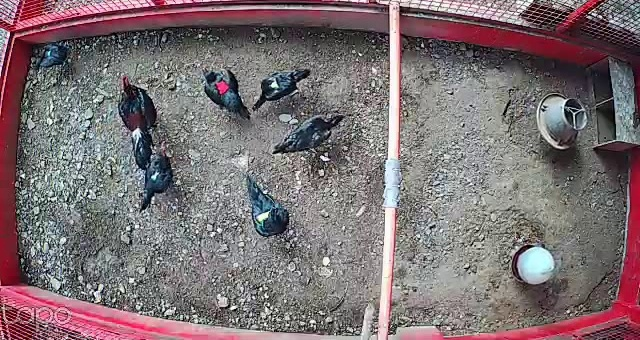Chicken: (240, 170, 294, 241), (272, 112, 349, 158), (198, 60, 252, 120), (251, 64, 314, 112), (138, 143, 181, 212), (33, 40, 71, 72)
Rooster: (117, 74, 164, 170)
Saddle_Color_Blue: (48, 50, 51, 57)
Saddle_Color_Red: (218, 80, 228, 96)
Saddle_Color_Yellow: (268, 77, 281, 92)
Saddle_Color_YellowGreen: (254, 211, 273, 227)
